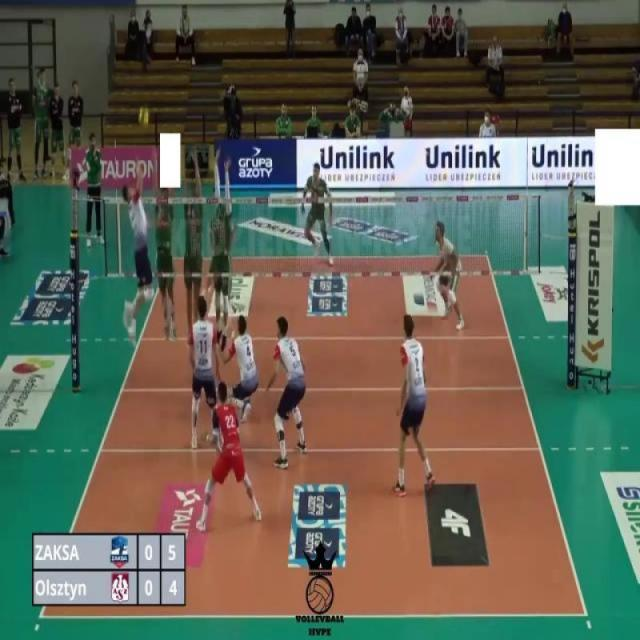volleyball: (138, 105, 150, 130)
